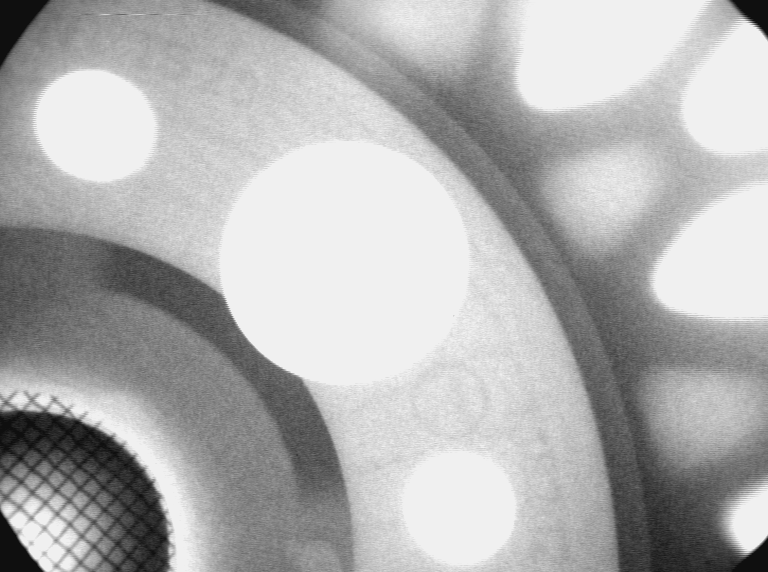defect: (273, 530, 351, 570)
